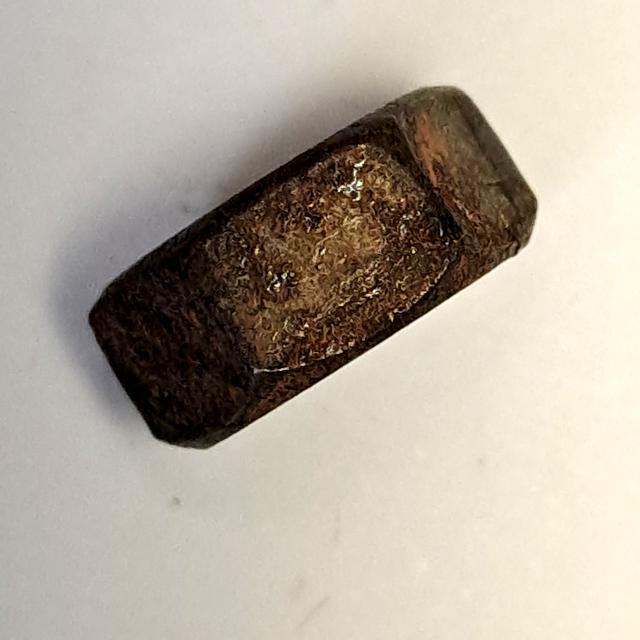Side_Rust: (70, 66, 555, 467)
